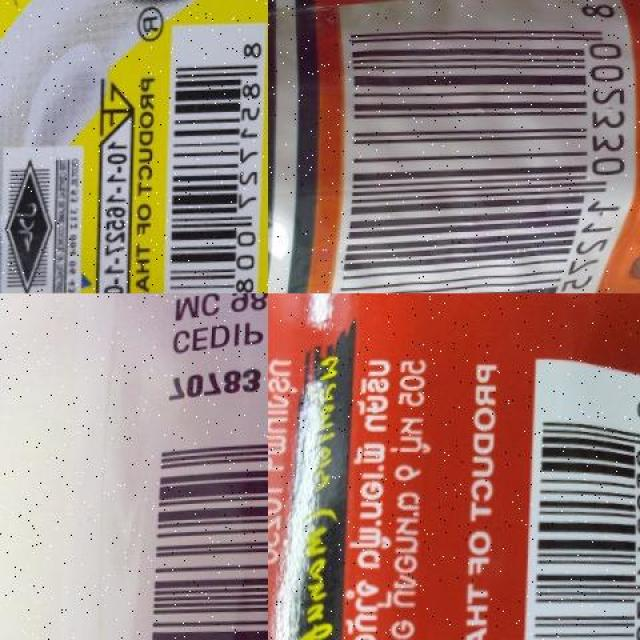Barcode: (318, 0, 638, 293), (119, 405, 268, 640), (520, 384, 640, 640), (163, 24, 260, 293)
